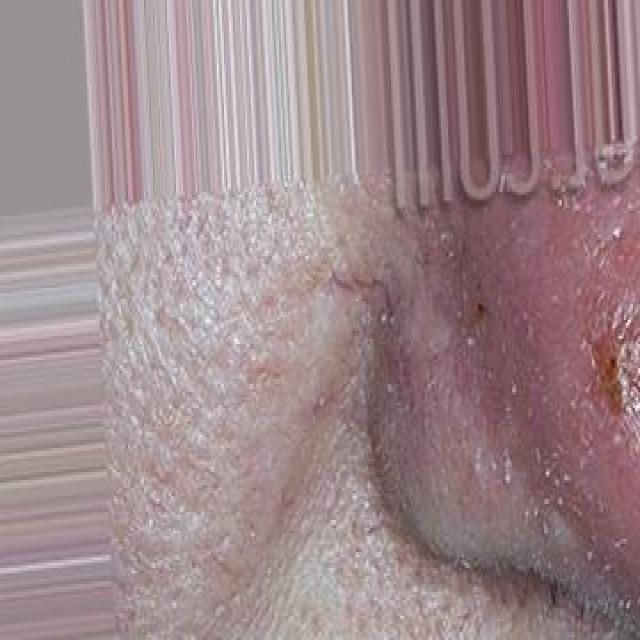Rosacea: (432, 197, 640, 598)
